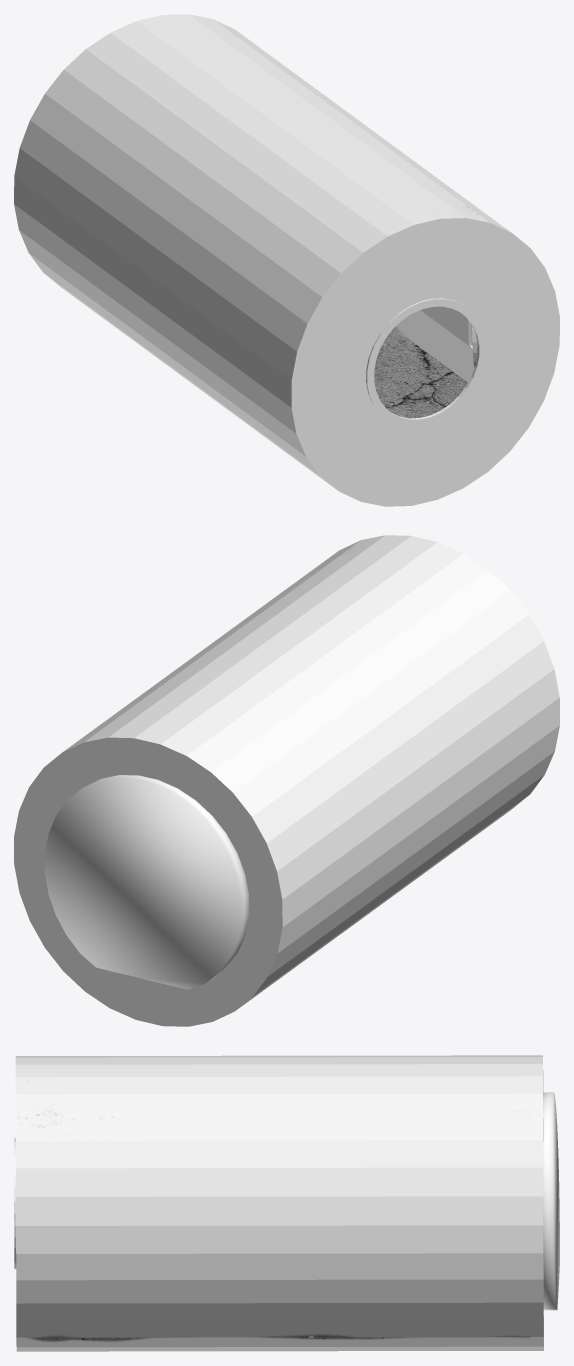
The model's file is LivingQuarterHabitat.glb.
The picture shows the model from 3 angles, top to bottom: view 1: azimuth 30°, elevation 25°; view 2: azimuth 150°, elevation 25°; view 3: azimuth 270°, elevation 25°; orthographic projection. The views are drawn at different scales.
Parts seen in each view (by area): view 1: habitats; view 2: habitats, door; view 3: habitats, door.
Boxes of the visible parts, box(x1,y1,x2,y2) form: habitats: box(14, 14, 559, 506); habitats: box(14, 535, 559, 1026); door: box(45, 775, 249, 989); habitats: box(14, 1055, 543, 1351); door: box(543, 1092, 559, 1310).
Size of the model in its own units: 7.31 by 7.33 by 13.54.
23 materials, 23 textured.
